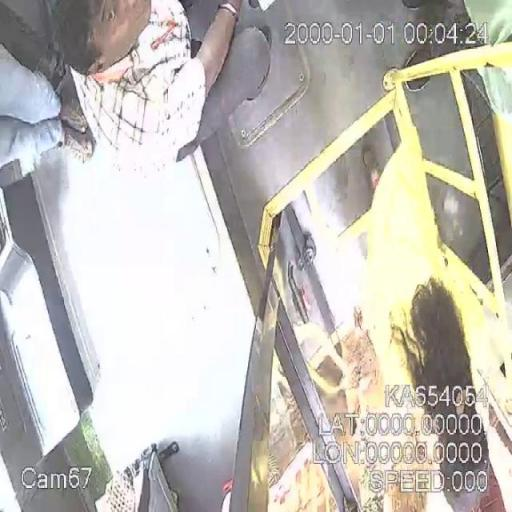persona: (45, 0, 244, 176), (1, 0, 97, 178)
